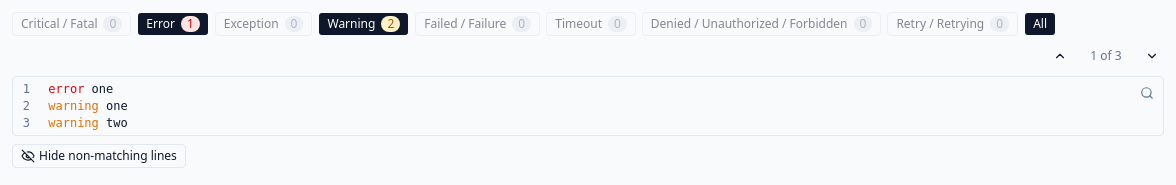
Test: LogViewerWidget › recombines the navigator as multiple patterns are toggled independently
Expected: the text "1 of 3" is shown, 1090,47 -> 1122,64
Click the button with aria-label "warning (2)" at [364, 24], box 318,12 -> 409,36
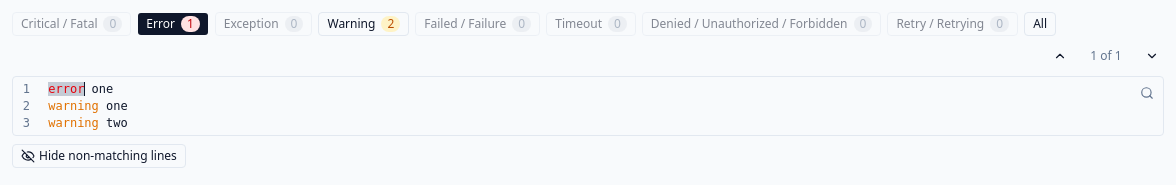
Now the text "1 of 1" is shown, box 1090,47 -> 1122,64
Click the button with aria-label "error (1)" at [173, 24], box 137,12 -> 209,36
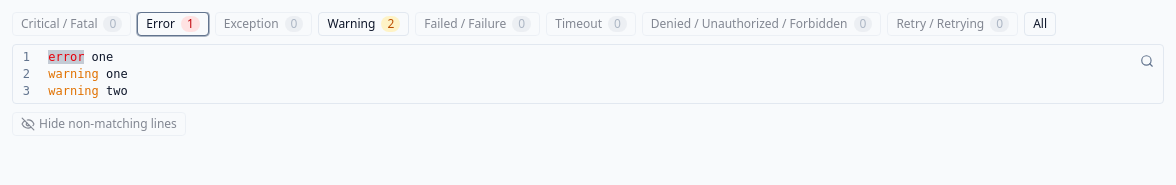
Now the button with aria-label "error (1)" is not pressed, box 137,12 -> 209,36
Click the button with aria-label "warning (2)" at [364, 24], box 318,12 -> 409,36
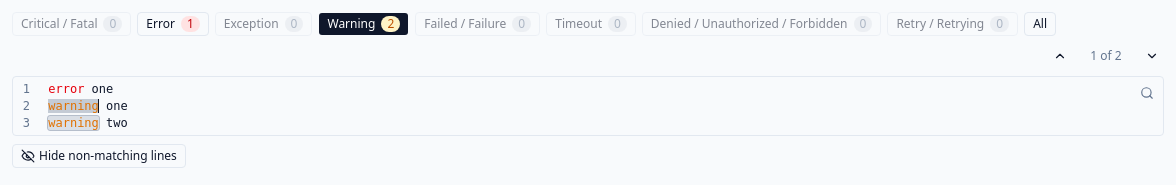
Now the text "1 of 2" is shown, box 1090,47 -> 1122,64
